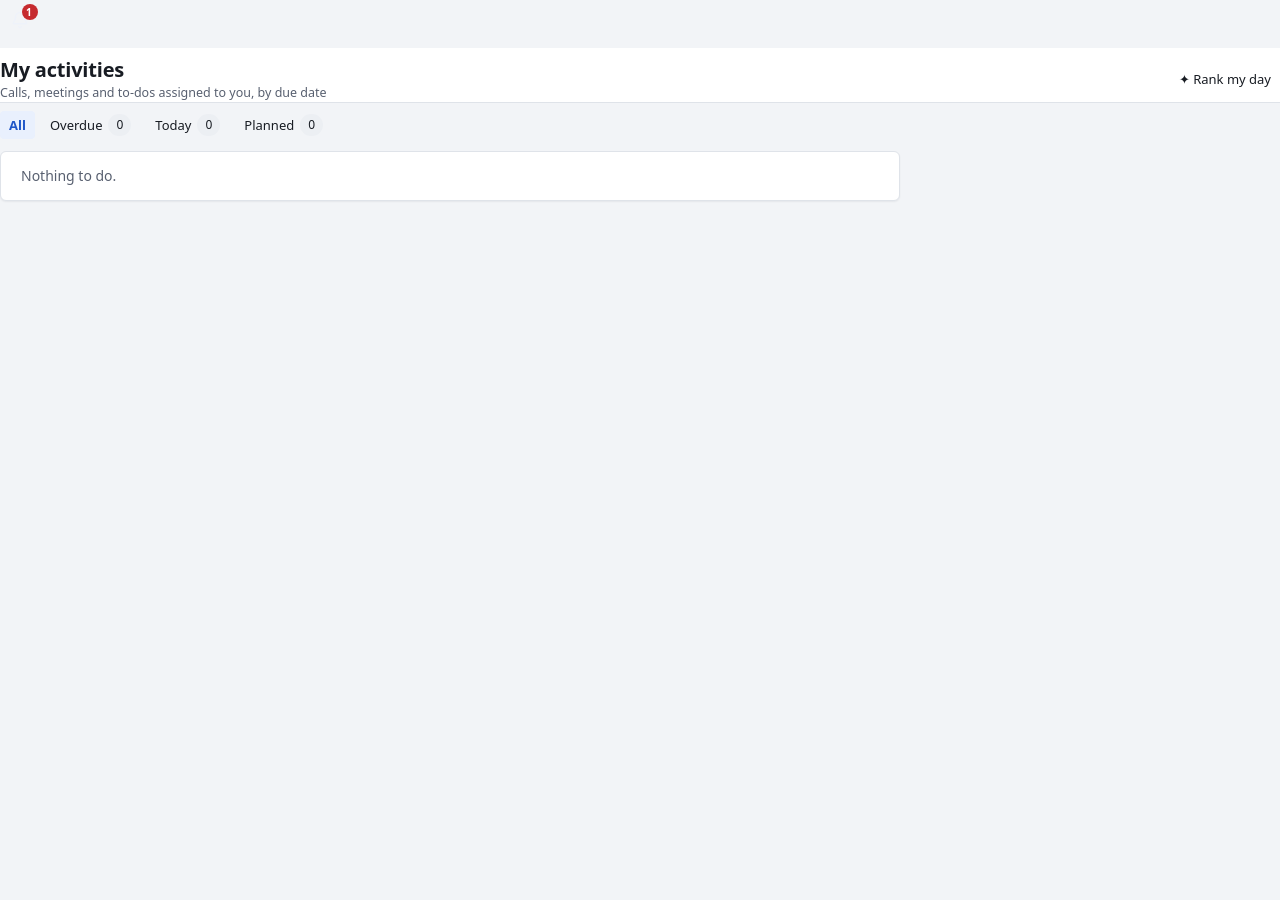
AI-ranked daily to-do › opens from the morning notification's link
This screenshot has width=1280, height=900.
Expected: the heading "My activities" is shown, [0, 56, 124, 83]
Expected: the element "AI-ranked to-do" is not shown
Click the button named "Notifications: 1 unread".
click(20, 20)  # box [0, 0, 40, 40]
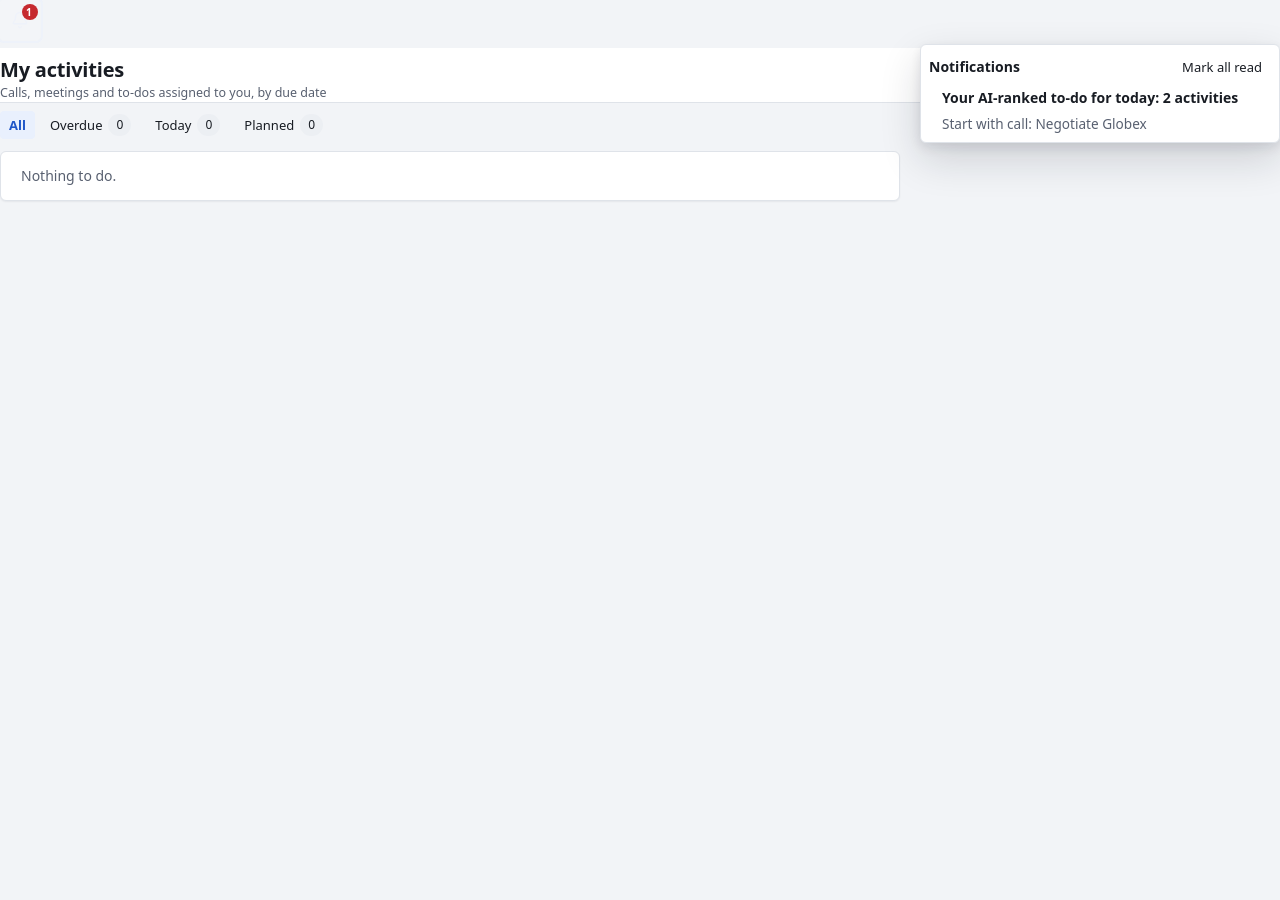
Click the button "Your AI-ranked to-do".
click(1090, 98)  # box [929, 87, 1271, 134]
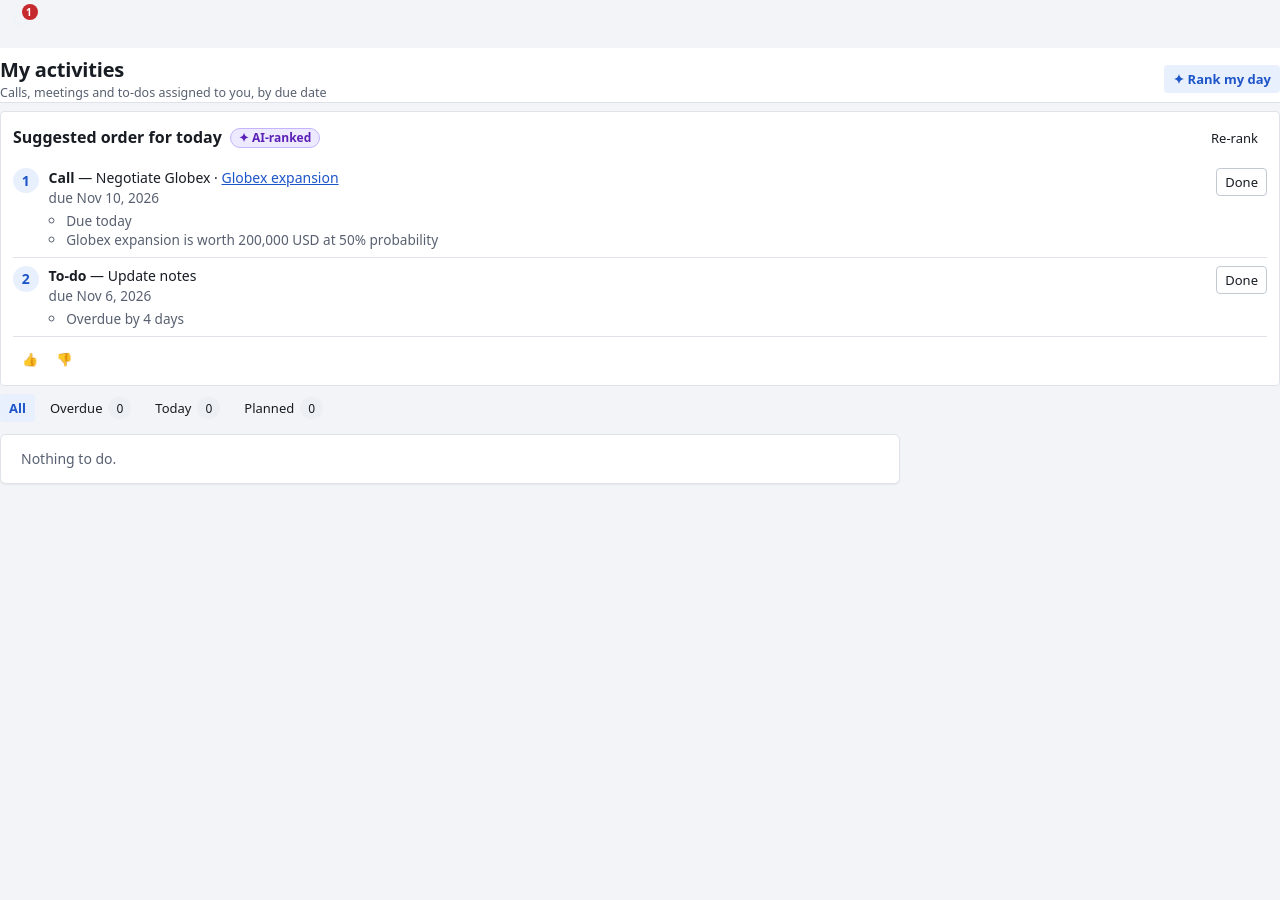
Now the text "Negotiate Globex" is shown, box [96, 168, 210, 187]
Now the element named "AI-ranked to-do" is shown, box [0, 111, 1279, 386]
